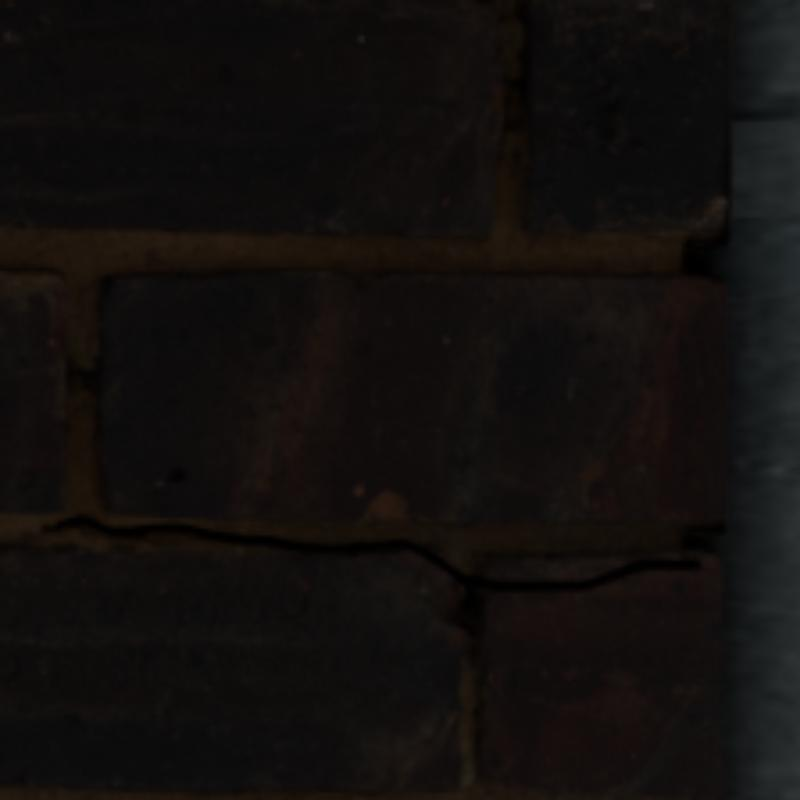pothole: (43, 514, 696, 586), (64, 361, 100, 386)
